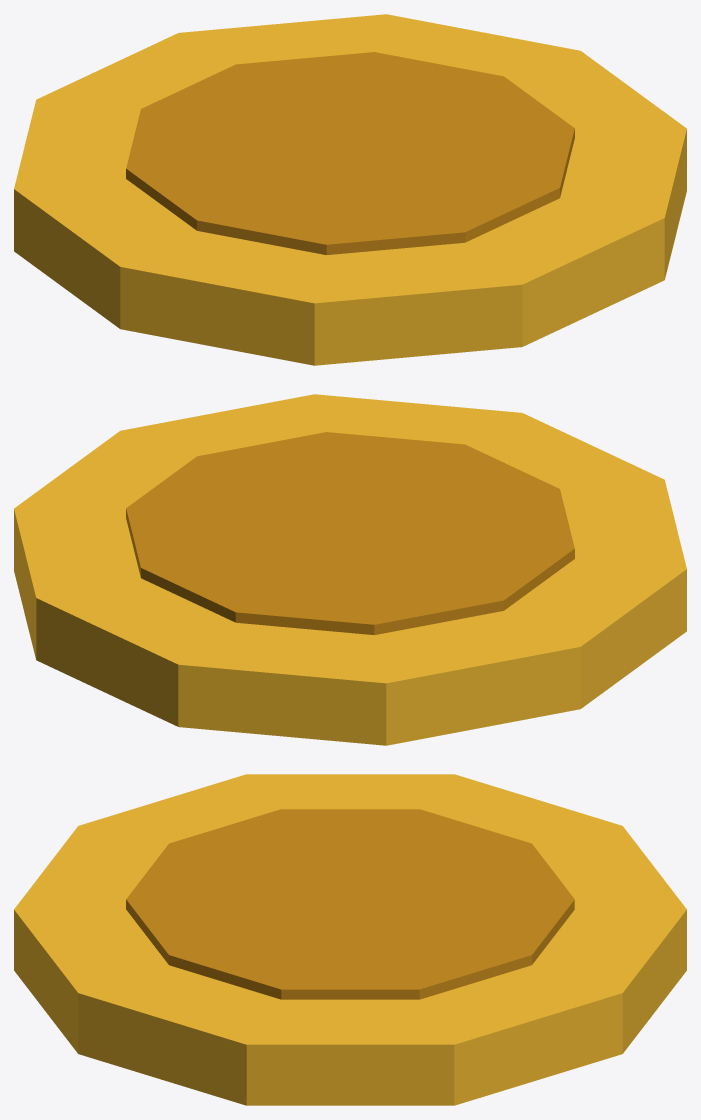
Rendered from gold_coin.fbx.
3 renders of one model, top to bottom at view 1: azimuth 30°, elevation 25°; view 2: azimuth 150°, elevation 25°; view 3: azimuth 270°, elevation 25°, orthographic. The views are drawn at different scales.
Parts seen in each view (by area): view 1: gold_coin; view 2: gold_coin; view 3: gold_coin.
Part boxes in pixels (left/top/right/bottom): gold_coin: left=14, top=14, right=686, bottom=365; gold_coin: left=14, top=394, right=686, bottom=745; gold_coin: left=14, top=774, right=686, bottom=1105.
Bounding box in the file's own units: 0.0571 × 0.008 × 0.06.
